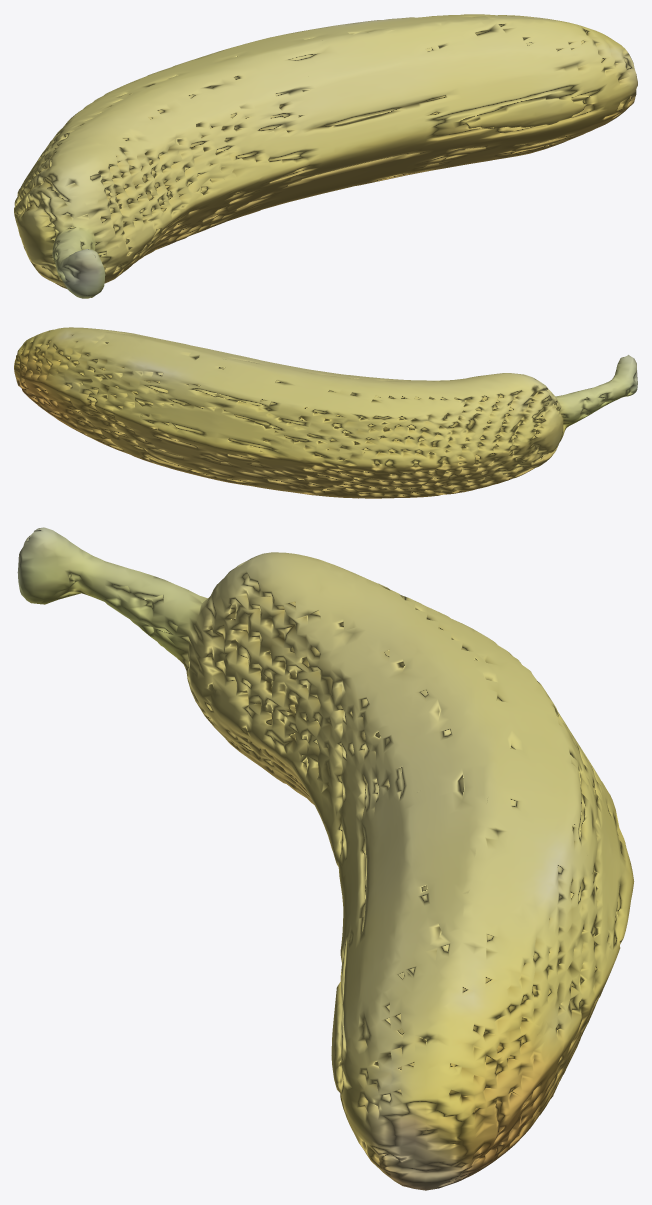
File: banana-streaming3d.glb
The picture shows the model from 3 angles, top to bottom: view 1: azimuth 30°, elevation 25°; view 2: azimuth 150°, elevation 25°; view 3: azimuth 270°, elevation 25°; orthographic projection. The views are drawn at different scales.
Size of the model in its own units: 0.9926 by 0.2045 by 0.5065.
